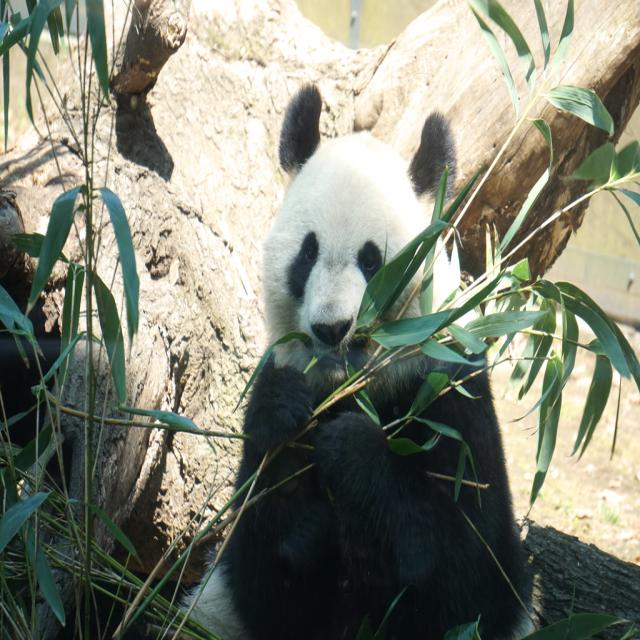panda: (145, 85, 542, 639)
